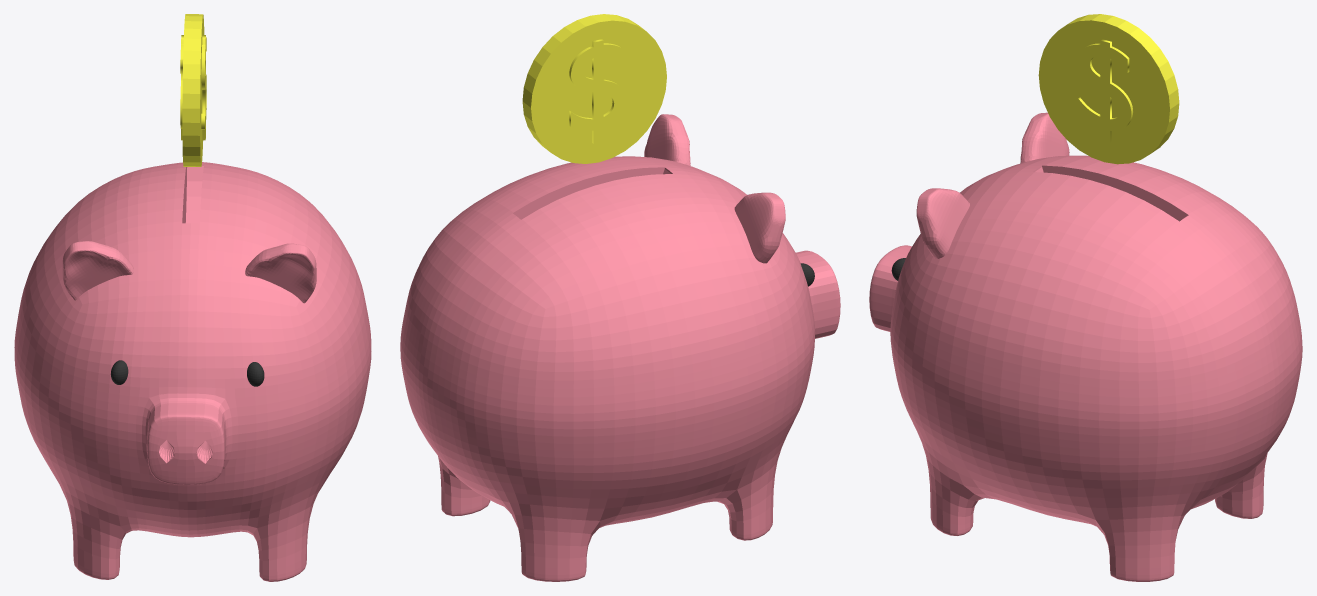
File: piggy.glb
3 views of the same model, side by side, from view 1: azimuth 30°, elevation 25°; view 2: azimuth 150°, elevation 25°; view 3: azimuth 270°, elevation 25° (orthographic).
Parts seen in each view (by area): view 1: Cube.010, Coin, Sphere.001; view 2: Cube.010, Coin; view 3: Cube.010, Coin.
Part boxes in pixels (x1,y1,x2,y2): Cube.010: (14,162,371,581); Coin: (180,14,206,166); Sphere.001: (110,360,264,386); Cube.010: (400,114,840,581); Coin: (522,14,666,163); Cube.010: (869,112,1302,581); Coin: (1038,14,1179,164).
Bounding box in the file's own units: 0.2949 × 0.4216 × 0.3301.
